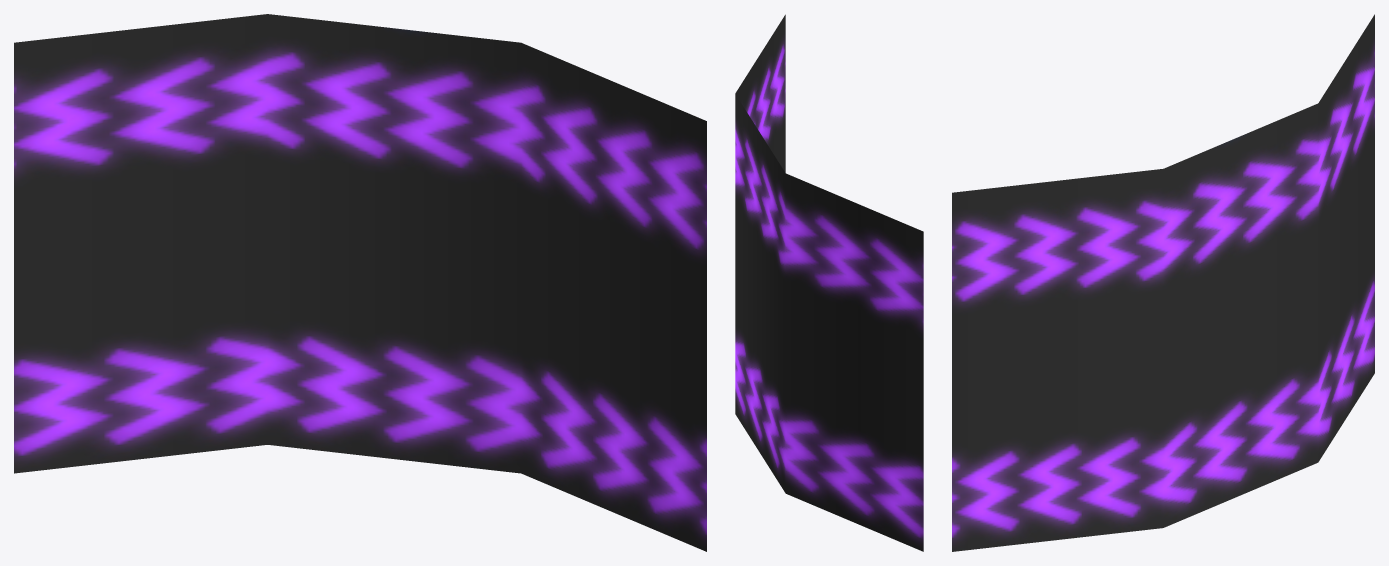
File: Kabe_B_02.fbx
3 views of the same model, side by side, from view 1: azimuth 30°, elevation 25°; view 2: azimuth 150°, elevation 25°; view 3: azimuth 270°, elevation 25° (orthographic). The views are drawn at different scales.
Visible parts, largest first — view 1: Kabe_B_02; view 2: Kabe_B_02; view 3: Kabe_B_02.
Boxes of the visible parts, x1,y1,x2,y2 form: Kabe_B_02: [14, 14, 706, 551]; Kabe_B_02: [735, 14, 923, 551]; Kabe_B_02: [952, 14, 1374, 551].
Size of the model in its own units: 598 by 561 by 598.
Materials: 1 (1 with a texture image).
